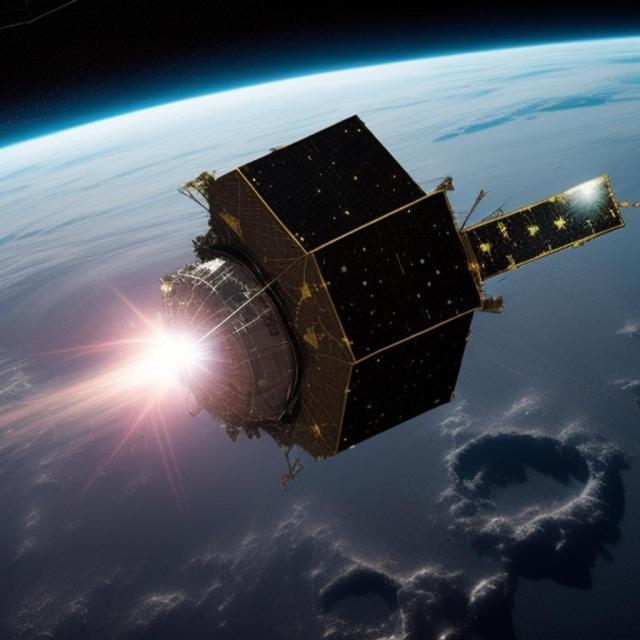sat: (79, 98, 633, 472)
